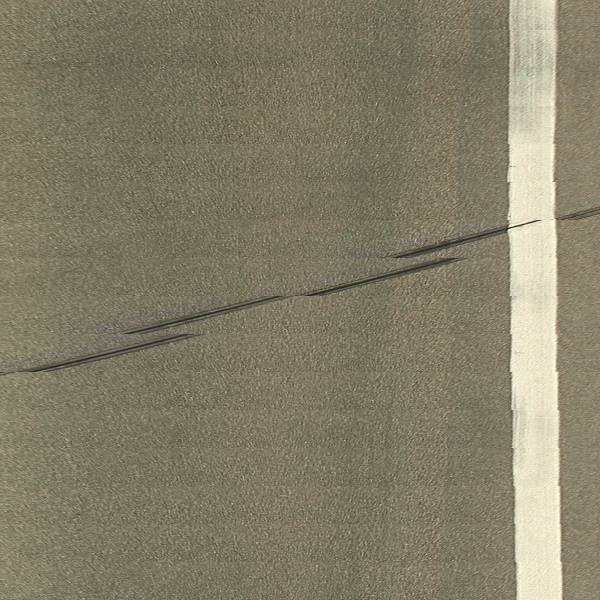road_damage: (42, 229, 493, 374)
